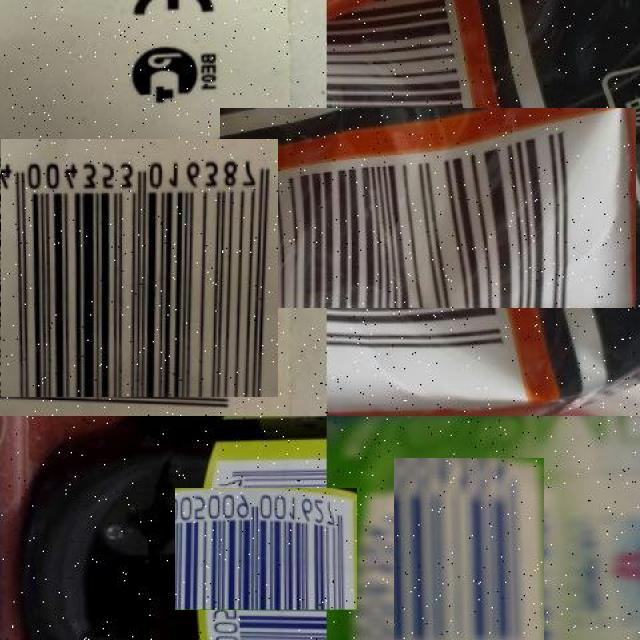Barcode: (273, 54, 582, 362), (0, 130, 269, 407), (379, 474, 561, 640), (190, 472, 342, 625)
